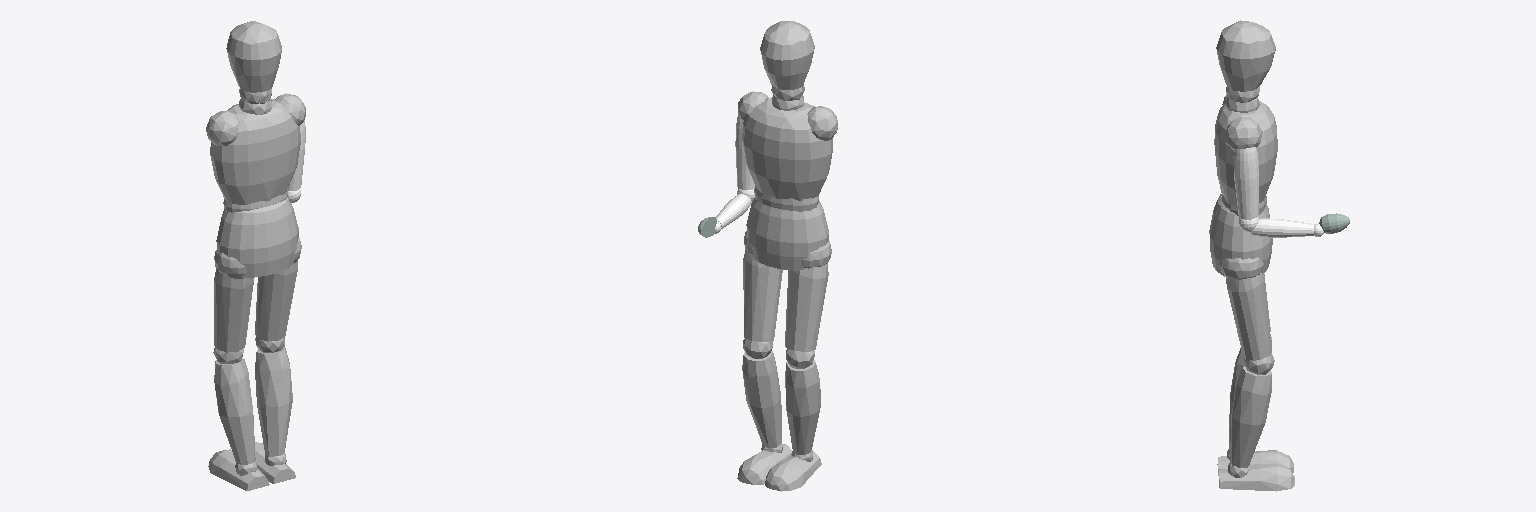
URDF robot description (mannequin):
<?xml version="1.0"?>
<robot name="mannequin">
    <!-- Puts mannequin in Gazebo sim -->
    <gazebo>
        <plugin name="gazebo_ros_control" filename="libgazebo_ros_control.so">
            <robotNamespace>/mannequin</robotNamespace>
        </plugin>
    </gazebo>

    <!-- * * * Link Definitions * * * -->
    <link name="base_link">
        <visual>
            <origin rpy="0.1 0 0" xyz="0 0 0"/>
            <geometry>
                <box size="0.01 0.01 0.01"/>
            </geometry>
        </visual>
	</link>
    <gazebo reference="base_link">
        <kp>1000.0</kp>
        <kd>1000.0</kd>
        <mu1>10.0</mu1>
        <mu2>10.0</mu2>
        <material>Gazebo/White</material>
    </gazebo>


    <link name="body_link">
        <visual>
            <origin rpy="0.0 0 0" xyz="0 0 0"/>
            <geometry>
                <!-- Material color set to white in blender -->
                <mesh filename="package://model_description/models/mannequin/meshes/body_formatted.dae"/>
            </geometry>
        </visual>
        <collision>
            <origin xyz="0 0 0" rpy="0 0 0"/>
            <geometry>
                <cylinder radius="0.2" length="0.1"/>
            </geometry>
        </collision>
        <inertial>
            <origin xyz="0 0 0" rpy="0 0 0"/>
            <mass value="53.6" /> <!-- Assuming 60kg person, with 3.2x2=6.4 kg in arm meat -->
            <!-- interial calc based on box with: width=0.33 length = 0.67 height = 1.7 -->
            <inertia ixx="13.3950866667" ixy="0.0" ixz="0.0" iyy="14.9137533333" iyz="0.0" izz="2.49150666667"/>
        </inertial>
	</link>
    <gazebo reference="body_link">
        <kp>5000.0</kp> <!-- kp, kd need to be this high to avoid falling through the floor -->
        <kd>5000.0</kd>
        <mu1>10.0</mu1>
        <mu2>10.0</mu2>
        <material>Gazebo/White</material>
    </gazebo>
    
    <link name="left_shoulder_roll_link">
        <visual>
            <origin rpy="0 0 0" xyz="0 0 0"/>
            <geometry>
                <sphere radius="0.03"/>
            </geometry>
        </visual>
        <!-- joint included for mobility, does not need collision-->
        <inertial>
            <origin xyz="0 0 0" rpy="0 0 0"/>
            <mass value="0.001" />
            <inertia ixx="3.6e-07" ixy="0.0" ixz="0.0" iyy="3.6e-07" iyz="0.0" izz="3.6e-07"/>
        </inertial>
    </link>
    <gazebo reference="left_shoulder_roll_link">
        <kp>10000.0</kp>
        <kd>10000.0</kd>
        <mu1>10.0</mu1>
        <mu2>10.0</mu2>
        <material>Gazebo/White</material>
    </gazebo>
    
    <link name="left_shoulder_pitch_link">
        <visual>
            <origin rpy="0 0 0" xyz="0 0 0"/>
            <geometry>
                <sphere radius="0.03"/>
            </geometry>
        </visual>
        <!-- joint included for mobility, does not need collision-->
        <inertial>
            <origin xyz="0 0 0" rpy="0 0 0"/>
            <mass value="0.001" />
            <inertia ixx="3.6e-07" ixy="0.0" ixz="0.0" iyy="3.6e-07" iyz="0.0" izz="3.6e-07"/>
        </inertial>
    </link>
    <gazebo reference="left_shoulder_pitch_link">
        <kp>10000.0</kp>
        <kd>10000.0</kd>
        <mu1>10.0</mu1>
        <mu2>10.0</mu2>
        <material>Gazebo/White</material>
    </gazebo>
    
    <link name="left_shoulder_yaw_link">
        <visual>
            <origin rpy="0 0 0" xyz="0 0 0"/>
            <geometry>
                <sphere radius="0.03"/>
            </geometry>
        </visual>
        <!-- joint included for mobility, does not need collision-->
        <inertial>
            <origin xyz="0 0 0" rpy="0 0 0"/>
            <mass value="0.001" />
            <inertia ixx="3.6e-07" ixy="0.0" ixz="0.0" iyy="3.6e-07" iyz="0.0" izz="3.6e-07"/>
        </inertial>
    </link>
    <gazebo reference="left_shoulder_yaw_link">
        <kp>10000.0</kp>
        <kd>10000.0</kd>
        <mu1>10.0</mu1>
        <mu2>10.0</mu2>
        <material>Gazebo/White</material>
    </gazebo>
    


    <link name="upper_left_arm_link">
        <visual>
            <origin rpy="0 0 0" xyz="0 0 0"/>
            <geometry>
                <mesh filename="package://model_description/models/mannequin/meshes/upper_arm_formatted.dae"/>
            </geometry>
        </visual>
        <collision>
            <origin xyz="0 0 0" rpy="0 0 0"/>
            <geometry>
                <cylinder radius="0.03" length="0.3"/>
            </geometry>
        </collision>
        <inertial>
            <origin xyz="0 0 0" rpy="0 0 0"/>
            <mass value="1.6" /> <!-- Assuming 3.2kg arm, and half of it is upper arm-->
            <inertia ixx="0.01236" ixy="0.0" ixz="0.0" iyy="0.01236" iyz="0.0" izz="0.00072"/>
        </inertial>
    </link>
    <gazebo reference="upper_left_arm_link">
        <kp>1000.0</kp>
        <kd>1000.0</kd>
        <mu1>10.0</mu1>
        <mu2>10.0</mu2>
        <material>Gazebo/White</material>
    </gazebo>
    

    <link name="lower_left_arm_link">
        <visual>
            <origin rpy="0 0 0" xyz="0 0 0"/>
            <geometry>
                <mesh filename="package://model_description/models/mannequin/meshes/lower_arm_formatted.dae"/>
            </geometry>
        </visual>
        <collision>
            <origin xyz="0 0 0" rpy="0 0 0"/>
            <geometry>
                <cylinder radius="0.03" length="0.3"/>
            </geometry>
        </collision>
        <inertial>
            <origin xyz="0 0 0" rpy="0 0 0"/>
            <mass value="1.6" /> <!-- Assuming 3.2kg arm, and half of it is lower arm-->
            <inertia ixx="0.01236" ixy="0.0" ixz="0.0" iyy="0.01236" iyz="0.0" izz="0.00072"/>
        </inertial>
    </link>
    <gazebo reference="lower_left_arm_link">
        <kp>1000.0</kp>
        <kd>1000.0</kd>
        <mu1>10.0</mu1>
        <mu2>10.0</mu2>
        <material>Gazebo/White</material>
    </gazebo>
    
    
    <link name="left_hand_link">
        <visual>
            <origin rpy="0 0 0" xyz="0 0 0"/>
            <geometry>
                <mesh filename="package://model_description/models/mannequin/meshes/hand_formatted.dae"/>
            </geometry>
        </visual>
        <collision>
            <origin xyz="0 0 0" rpy="0 0 0"/>
            <geometry>
                <box size="0.03 0.01 0.05"/>
            </geometry>
        </collision>
        <inertial>
            <origin xyz="0 0 0" rpy="0 0 0"/>
            <mass value="0.3" /> <!-- Assuming 60kg person, hands are 0.5% of weight, hand is 0.3kg -->
            <!-- body segment percentages from https://exrx.net/Kinesiology/Segments-->
            <inertia ixx="6.5e-05" ixy="0.0" ixz="0.0" iyy="8.5e-05" iyz="0.0" izz="2.5e-05"/>
        </inertial>
    </link>
    <gazebo reference="left_hand_link">
        <kp>1000.0</kp>
        <kd>1000.0</kd>
        <mu1>10.0</mu1>
        <mu2>10.0</mu2>
        <material>Gazebo/White</material>
    </gazebo>



    <!-- **** Joint Definitions **** -->
    <joint name="base_joint" type="fixed">
        <parent link="base_link"/>
        <child link="body_link"/>
    </joint>
    
    <!-- Left Arm -->
    <joint name="left_shoulder_roll_joint" type="continuous"> <!-- lift shoulder forward -->
        <parent link="body_link"/>
        <child link="left_shoulder_roll_link"/>
        <axis xyz="1 0 0"/>
        <origin xyz="0.14 0.04 1.32" rpy="0 0 0"/>
    </joint>
    <joint name="left_shoulder_pitch_joint" type="revolute"> <!-- lift shoulder up and to the right, (-) commands -->
        <parent link="left_shoulder_roll_link"/>
        <child link="left_shoulder_pitch_link"/>
        <axis xyz="0 1 0"/>
        <origin xyz="0 0 0" rpy="0 0 0"/>
        <limit lower="-1.57" upper="0" effort="4" velocity="0.5"/>
    </joint>
    <joint name="left_shoulder_yaw_joint" type="revolute">
        <parent link="left_shoulder_pitch_link"/>
        <child link="left_shoulder_yaw_link"/>
        <axis xyz="0 0 1"/>
        <origin xyz="0 0 0" rpy="0 0 0"/>
        <limit lower="-1.1" upper="1.5" effort="1" velocity="0.5"/>
    </joint>
    
    
    <joint name="left_shoulder_joint" type="fixed">
        <parent link="left_shoulder_yaw_link"/>
        <child link="upper_left_arm_link"/>
    </joint>
    <joint name="left_elbow_joint" type="revolute">
        <parent link="upper_left_arm_link"/>
        <child link="lower_left_arm_link"/>
        <axis xyz="1 0 0"/>
        <limit lower="0.01" upper="3.0" effort="1" velocity="0.5"/>
        <origin xyz="-0.01 0.012 -0.322" rpy="0 0 0"/>
    </joint>
    <joint name="left_wrist_joint" type="fixed">
        <parent link="lower_left_arm_link"/>
        <child link="left_hand_link"/>=
        <origin xyz="0.0 0.015 -0.23" rpy="0 0 3.14"/>
    </joint>
    
    
    <!-- **** Controller Definitions **** -->
    
    <!-- Left arm -->
    <transmission name="leftshoulderrolltran">
        <type>transmission_interface/SimpleTransmission</type>
        <joint name="left_shoulder_roll_joint">
            <hardwareInterface>hardware_interface/EffortJointInterface</hardwareInterface>
        </joint>
        <actuator name="leftshoulderrollmotor">
            <hardwareInterface>hardware_interface/EffortJointInterface</hardwareInterface>
            <mechanicalReduction>1</mechanicalReduction>
        </actuator>
    </transmission>
    <transmission name="leftshoulderpitchtran">
        <type>transmission_interface/SimpleTransmission</type>
        <joint name="left_shoulder_pitch_joint">
            <hardwareInterface>hardware_interface/EffortJointInterface</hardwareInterface>
        </joint>
        <actuator name="leftshoulderpitchmotor">
            <hardwareInterface>hardware_interface/EffortJointInterface</hardwareInterface>
            <mechanicalReduction>1</mechanicalReduction>
        </actuator>
    </transmission>
    <transmission name="leftshoulderyawtran">
        <type>transmission_interface/SimpleTransmission</type>
        <joint name="left_shoulder_yaw_joint">
            <hardwareInterface>hardware_interface/EffortJointInterface</hardwareInterface>
        </joint>
        <actuator name="leftshoulderyawmotor">
            <hardwareInterface>hardware_interface/EffortJointInterface</hardwareInterface>
            <mechanicalReduction>1</mechanicalReduction>
        </actuator>
    </transmission>
    
    <transmission name="leftelbowtran">
        <type>transmission_interface/SimpleTransmission</type>
        <joint name="left_elbow_joint">
            <hardwareInterface>hardware_interface/EffortJointInterface</hardwareInterface>
        </joint>
        <actuator name="leftelbowmotor">
            <hardwareInterface>hardware_interface/EffortJointInterface</hardwareInterface>
            <mechanicalReduction>1</mechanicalReduction>
        </actuator>
    </transmission>

</robot>

--- Facts derived from the render (not from the file) ---
The picture shows the robot from 3 angles, left to right: view 1: azimuth 30°, elevation 25°; view 2: azimuth 150°, elevation 25°; view 3: azimuth 270°, elevation 25°; orthographic projection.
Robot: mannequin — 8 links, 7 joints (3 revolute, 1 continuous, 3 fixed); root link base_link; default pose: all joints at 0 but 1 set to mid-range because 0 is outside their limits (left_elbow_joint = 1.5).
Links seen in each view (by area): view 1: body_link, upper_left_arm_link; view 2: body_link, upper_left_arm_link, lower_left_arm_link; view 3: body_link, upper_left_arm_link, lower_left_arm_link.
Link boxes in pixels (x1,y1,x2,y2): body_link: [206, 21, 305, 490]; upper_left_arm_link: [288, 120, 305, 202]; body_link: [737, 21, 837, 491]; upper_left_arm_link: [735, 115, 754, 201]; lower_left_arm_link: [715, 194, 751, 233]; body_link: [1209, 20, 1294, 491]; upper_left_arm_link: [1233, 147, 1258, 231]; lower_left_arm_link: [1251, 218, 1323, 237].
Size in the robot's own frame: 0.3778 by 0.4756 by 1.69 metres.
Meshes: 4 distinct files referenced, 4 mesh visuals loaded (4 Collada DAE).